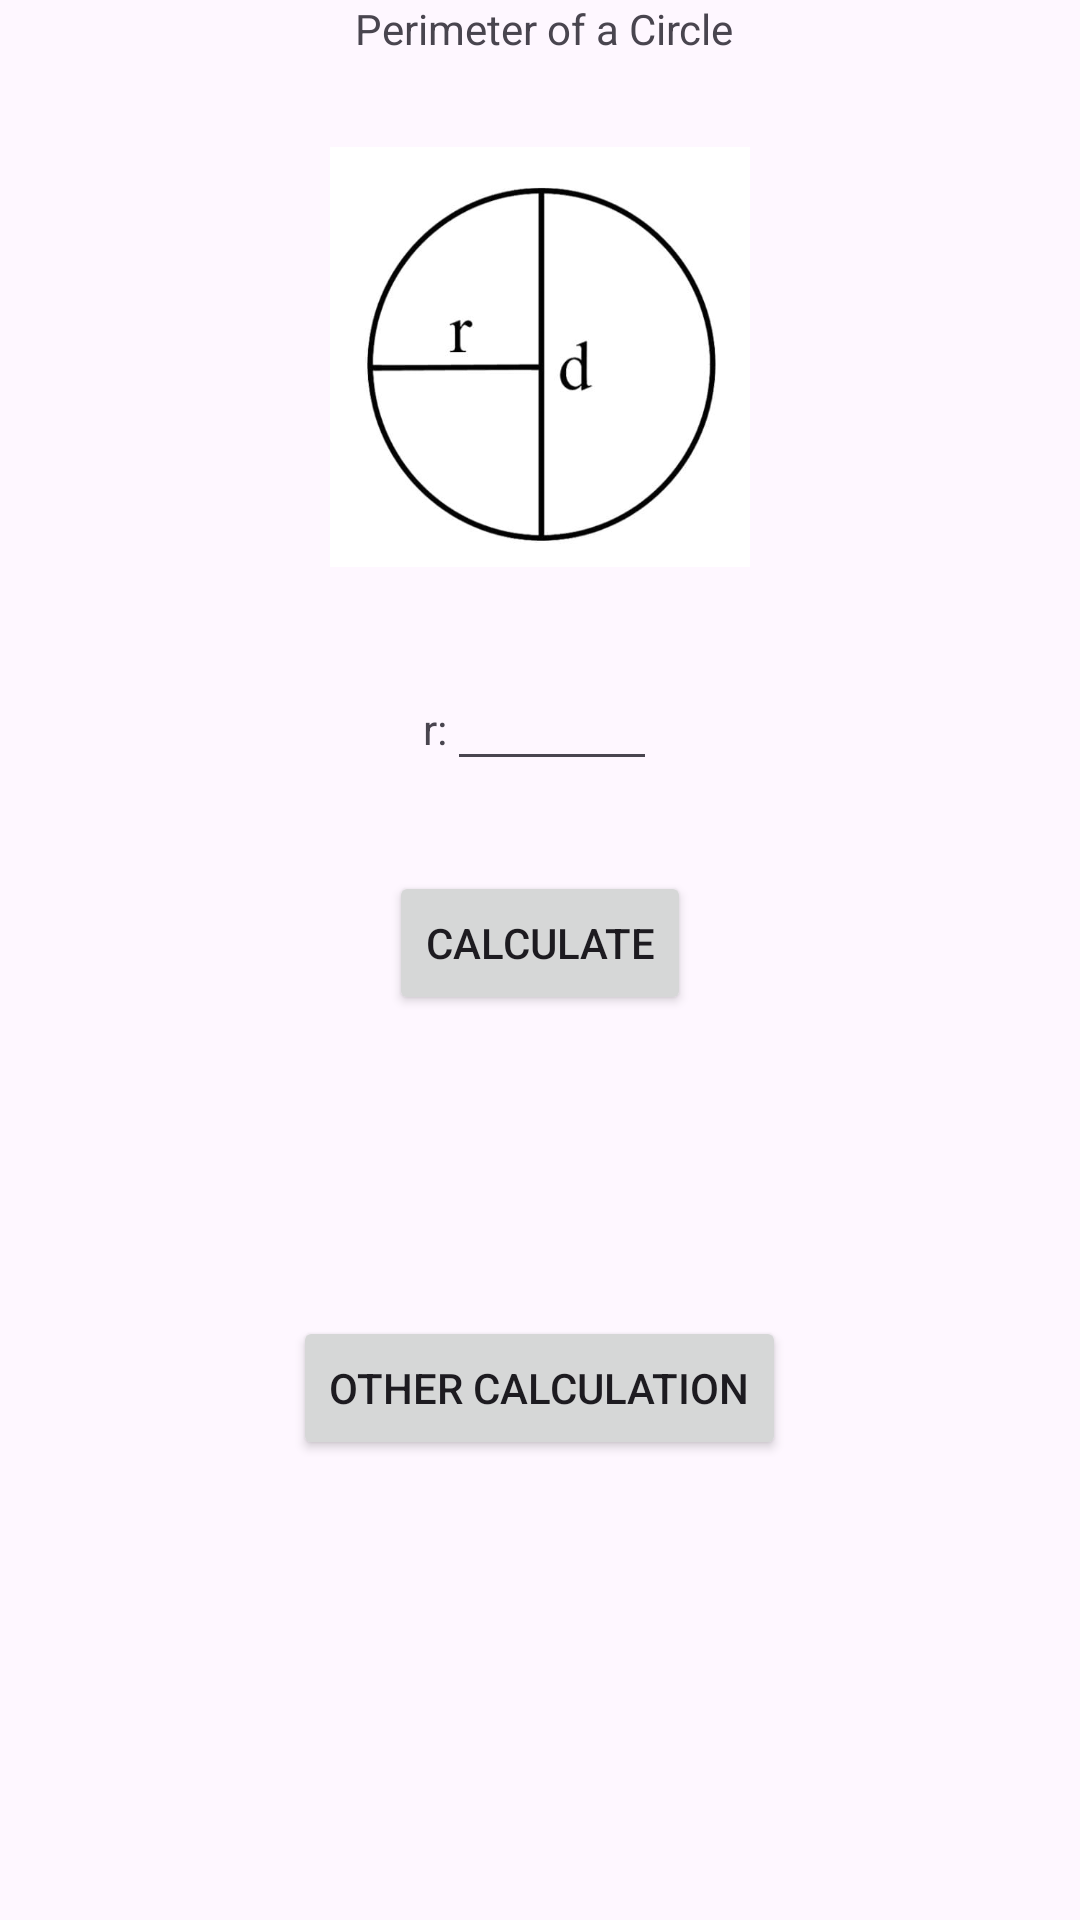

Screen size 1080w x 1920h. Icon name, then its center in pixels as (x,y):
cir: (541,364)
